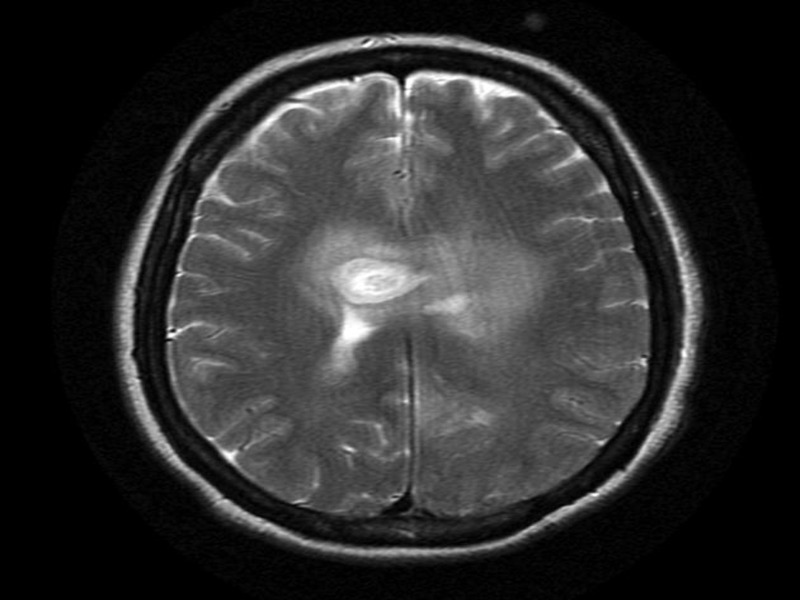tumor: (311, 235, 477, 363)
